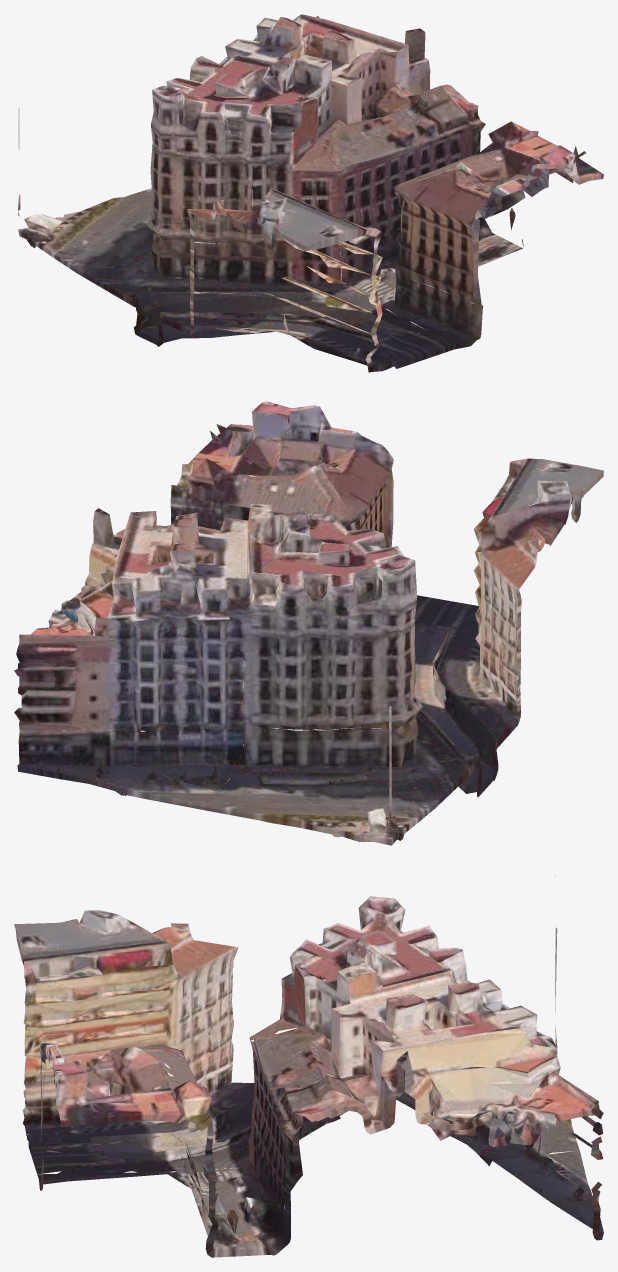
The picture shows the model from 3 angles, top to bottom: view 1: azimuth 30°, elevation 25°; view 2: azimuth 150°, elevation 25°; view 3: azimuth 270°, elevation 25°; orthographic projection. The views are drawn at different scales.
Visible parts, largest first — view 1: Mesh_0; view 2: Mesh_0; view 3: Mesh_0.
Boxes of the visible parts, left/top/right/bottom form: Mesh_0: left=18, top=14, right=603, bottom=372; Mesh_0: left=14, top=401, right=603, bottom=845; Mesh_0: left=14, top=875, right=603, bottom=1257.
Size of the model in its own units: 67.47 by 39.61 by 82.58.
Materials: 1 (1 with a texture image).
